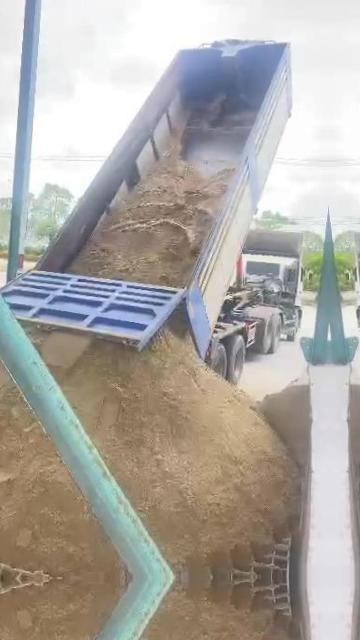sand: (22, 326, 301, 577), (0, 360, 122, 577), (69, 146, 234, 287), (258, 380, 311, 476)
